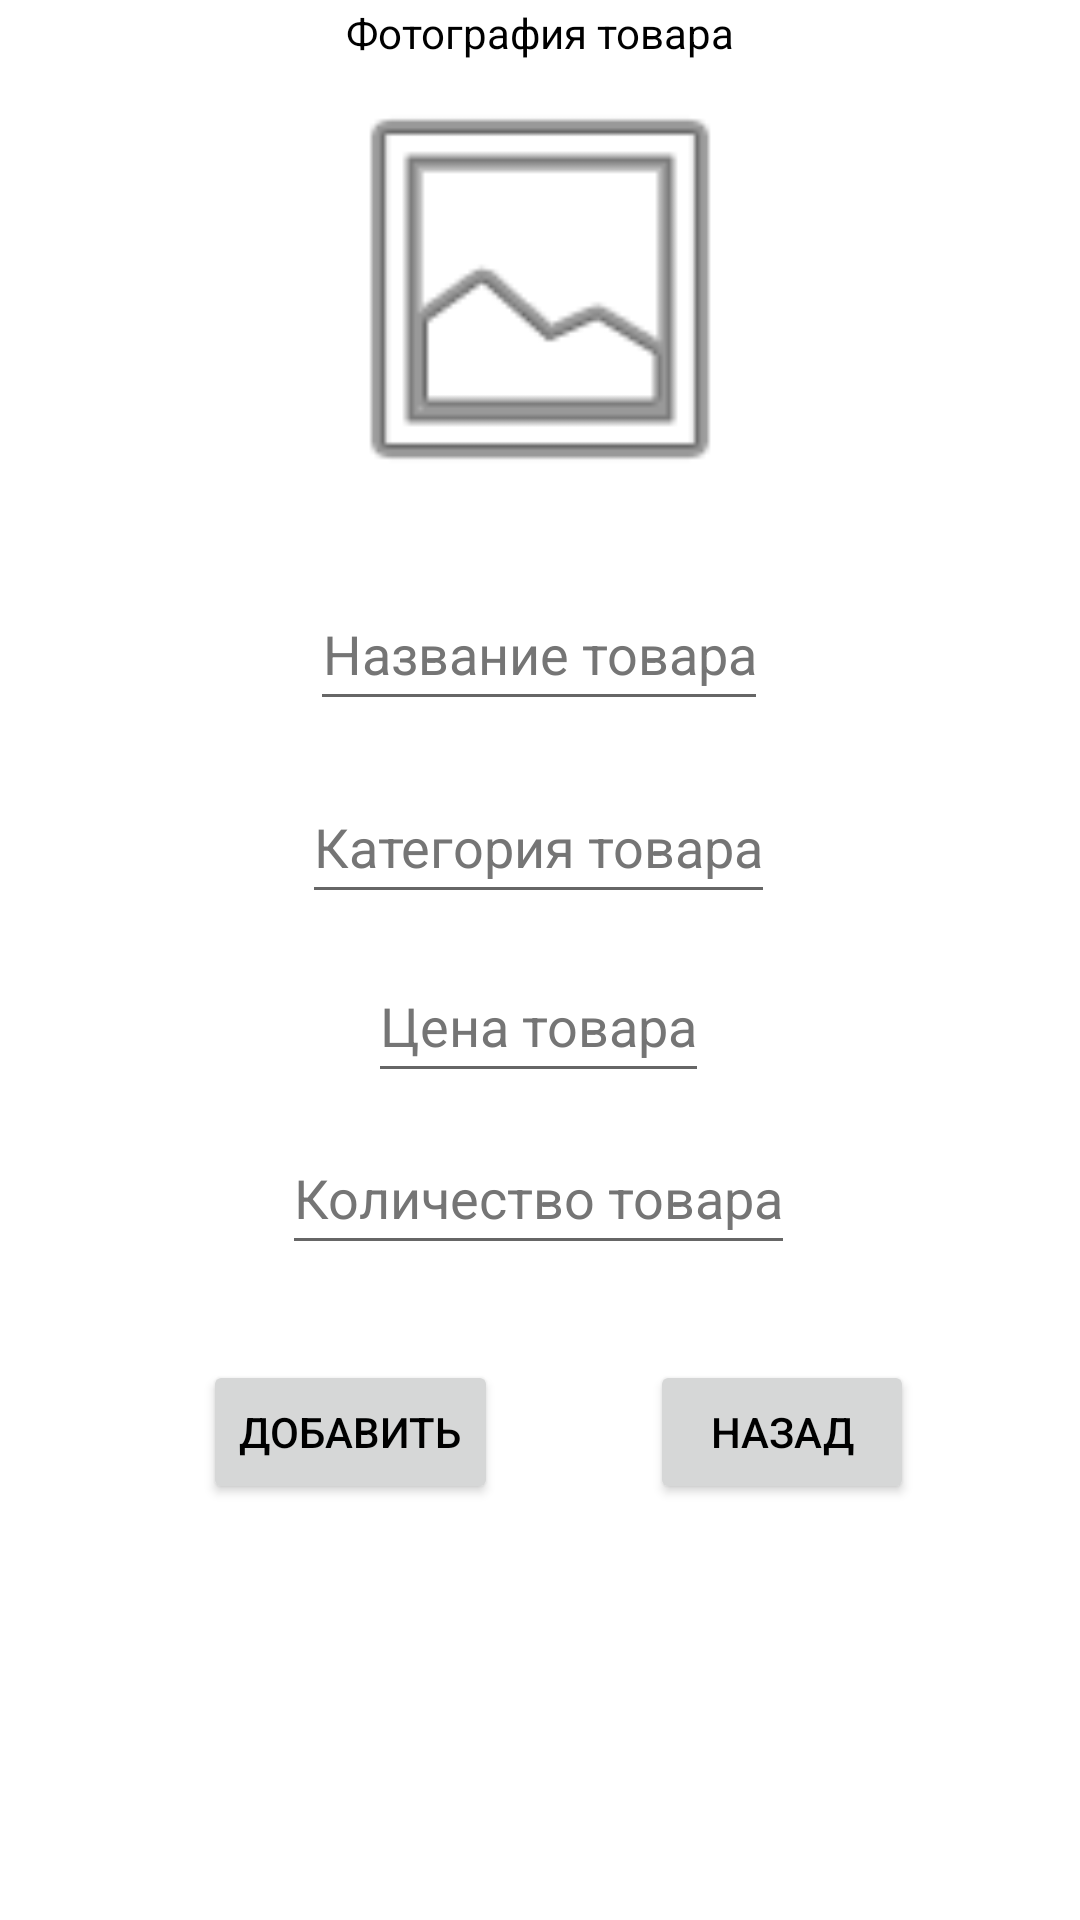

Where icons sit on this 1080 × 1920 app screen, as [x1=x1, y1=y1, x2=x2, y2=y2]:
gallery: [x1=370, y1=119, x2=710, y2=459]
